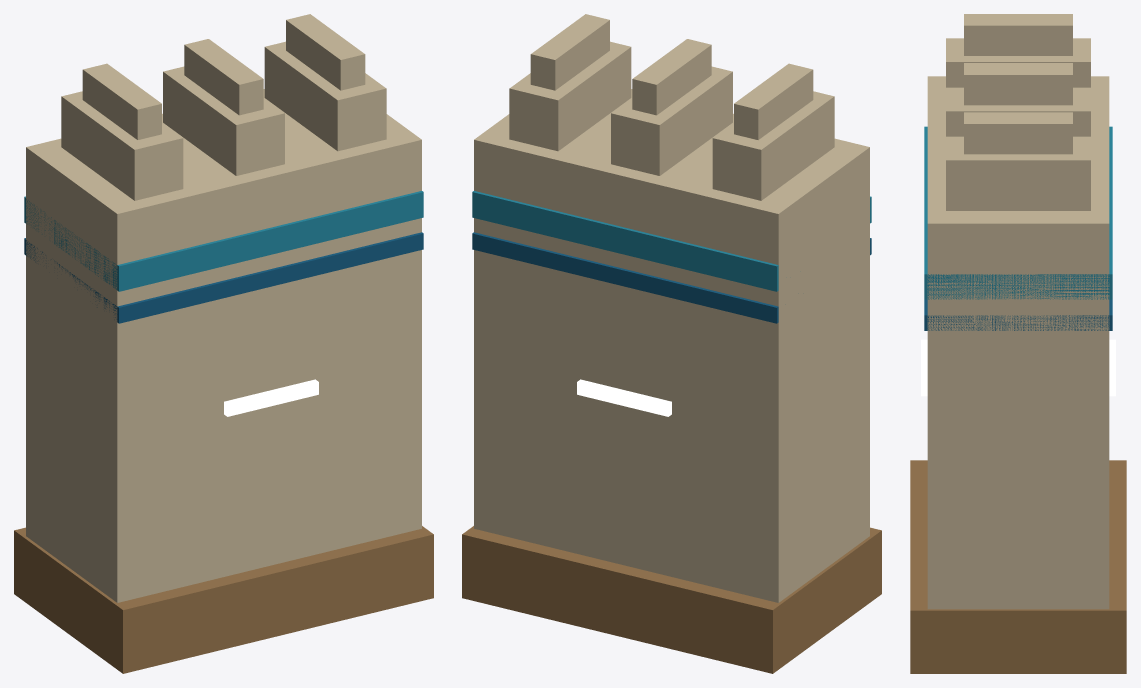
Rendered from wall_t3_seg.glb.
The picture shows the model from 3 angles, left to right: view 1: azimuth 30°, elevation 25°; view 2: azimuth 150°, elevation 25°; view 3: azimuth 270°, elevation 25°; orthographic projection.
Parts seen in each view (by area): view 1: body, glow; view 2: body, glow; view 3: body, glow.
Boxes of the visible parts, <box> form: body: <box>14,14,433,673</box>; glow: <box>224,379,318,416</box>; body: <box>462,14,881,673</box>; glow: <box>577,379,671,416</box>; body: <box>910,14,1126,673</box>; glow: <box>921,339,1115,396</box>.
Size of the model in its own units: 1.02 by 1.68 by 0.62.
